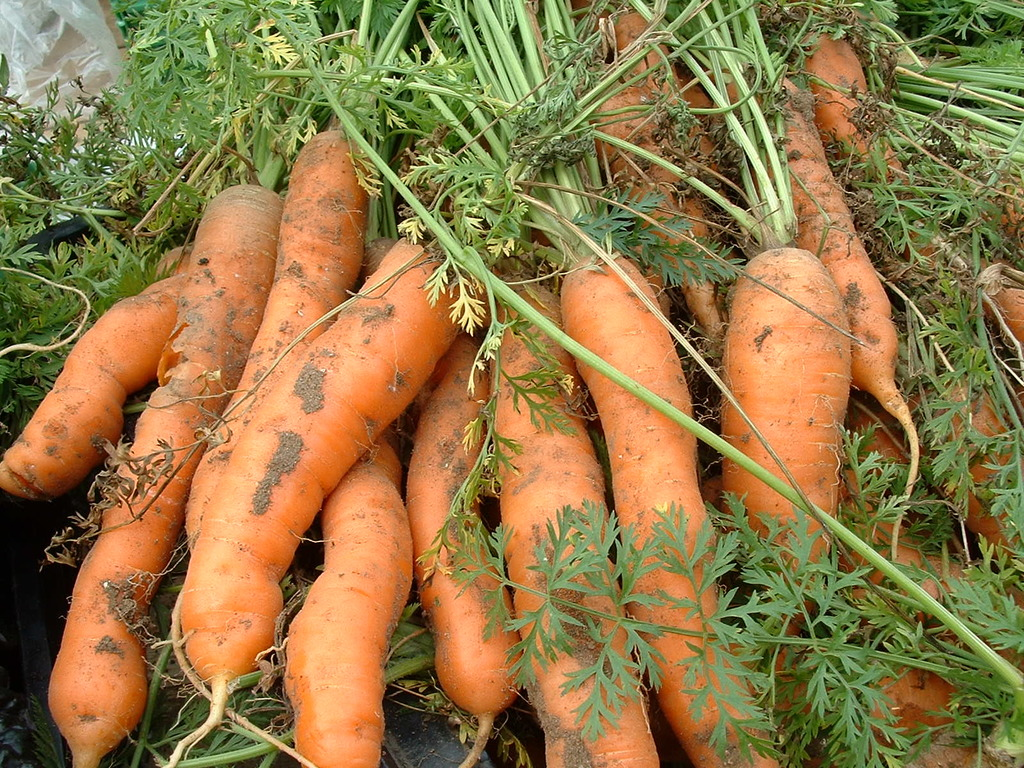Carrot: (0, 128, 848, 767), (173, 222, 495, 767)
